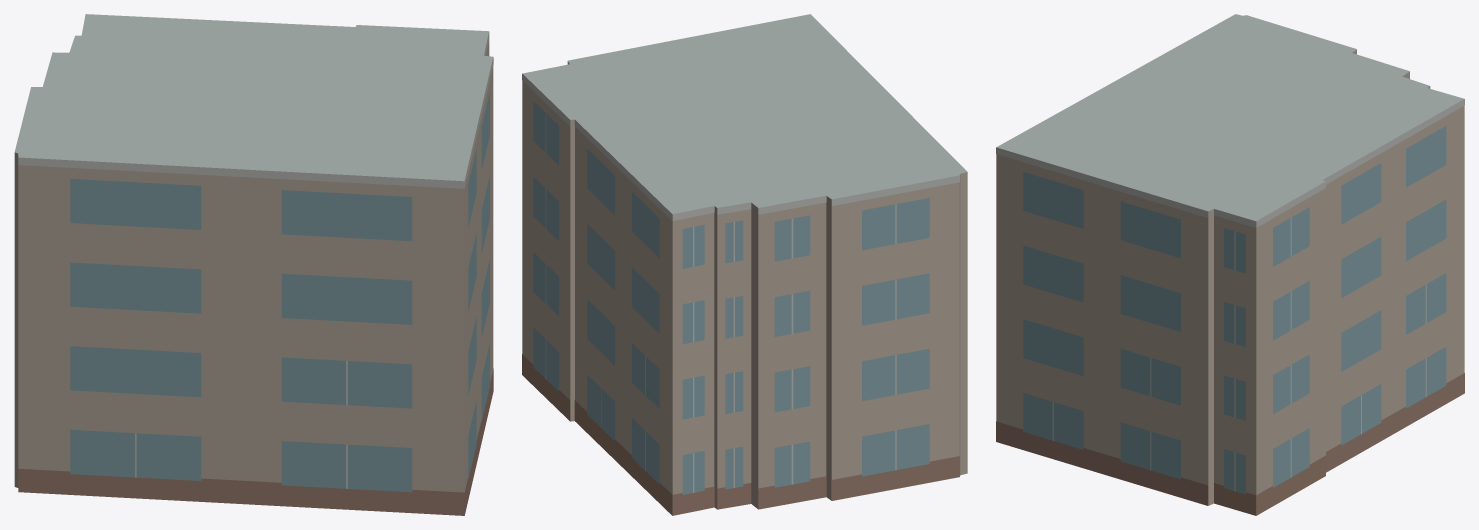
File: survey-upis-32892561.glb
The picture shows the model from 3 angles, left to right: view 1: azimuth 30°, elevation 25°; view 2: azimuth 150°, elevation 25°; view 3: azimuth 270°, elevation 25°; orthographic projection. The views are drawn at different scales.
Visible parts, largest first — view 1: survey-upis-32892561.tmp; view 2: survey-upis-32892561.tmp; view 3: survey-upis-32892561.tmp.
Boxes of the visible parts, box(x1,y1,x2,y2) form: survey-upis-32892561.tmp: box(14, 14, 493, 515); survey-upis-32892561.tmp: box(522, 14, 967, 515); survey-upis-32892561.tmp: box(996, 14, 1464, 515).
Size of the model in its own units: 16.31 by 10.8 by 15.58.
